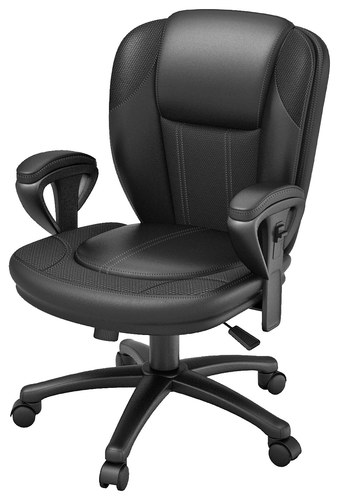chairs: (6, 9, 333, 483)
